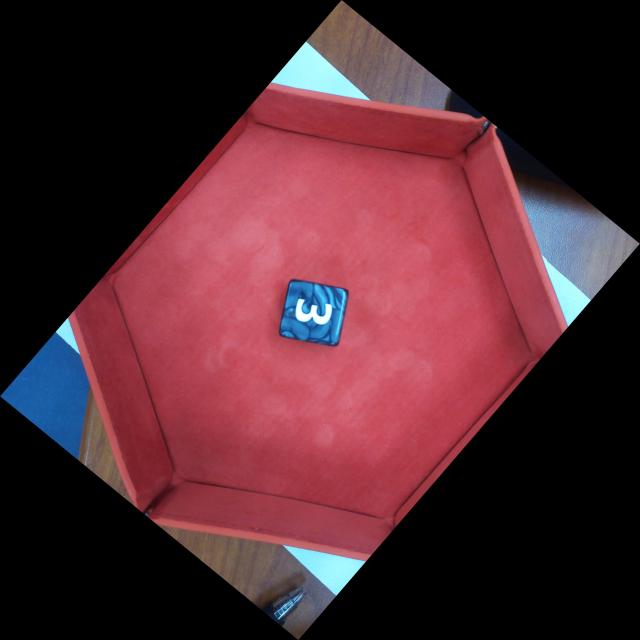dice: (280, 282, 343, 347)
